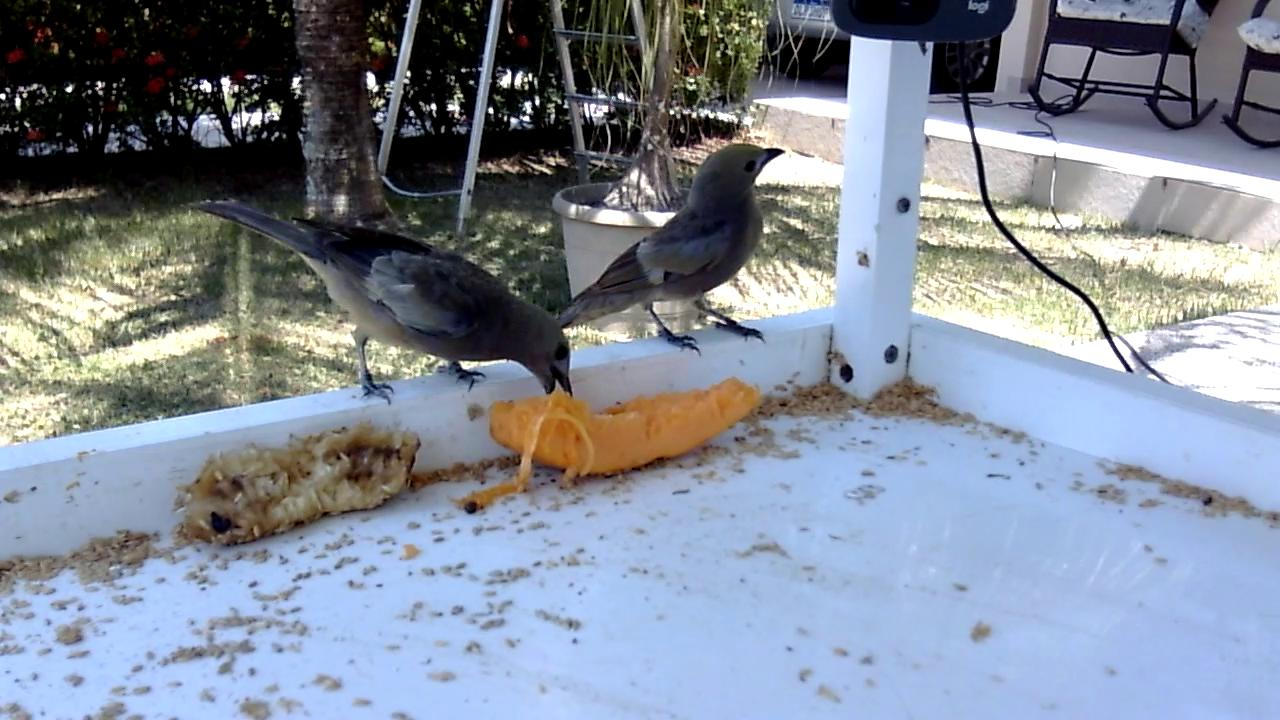sanhaco_do_coqueiro: (186, 197, 576, 411), (560, 142, 789, 361)
